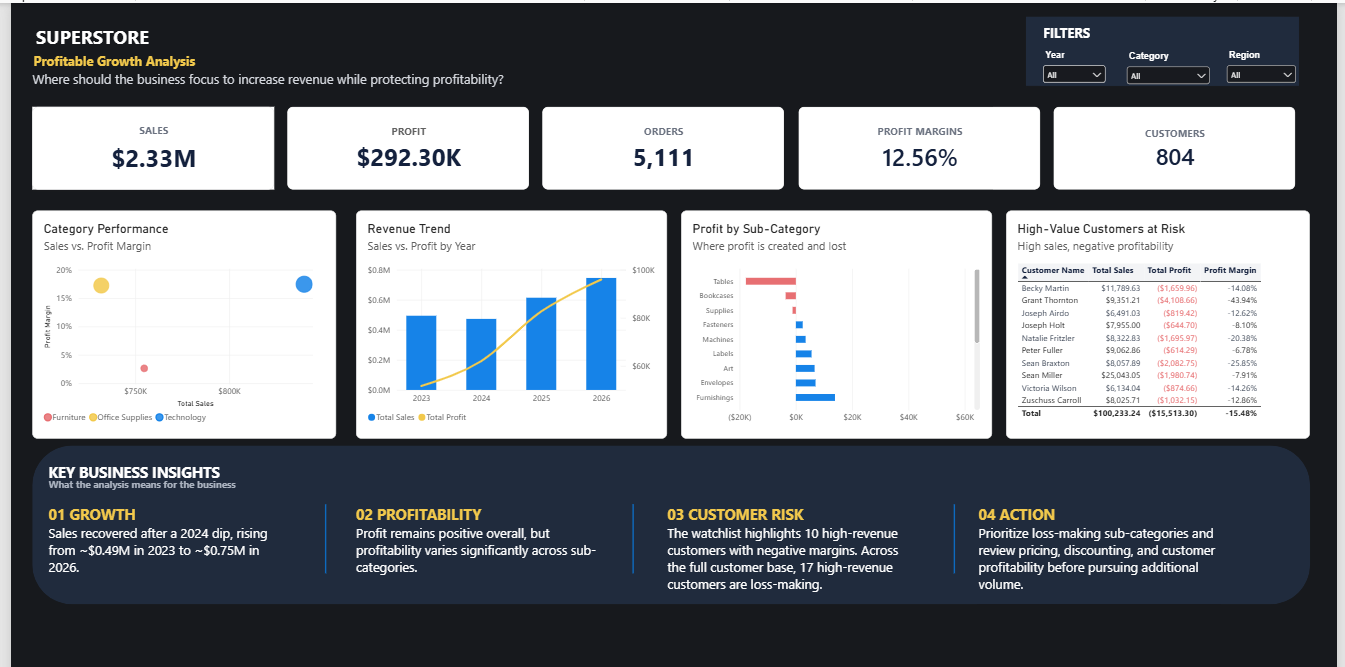

What the dashboard file says about the page in this screenshot:
{"tool":"powerbi","page":{"name":"Page 1","canvas":[1920,1080],"ordinal":0},"visuals":[{"type":"cardVisual","title":"SALES","fields":{"Data":["Orders.Total Sales"]},"box":[30,150,350,120],"z":0},{"type":"cardVisual","fields":{"Data":["Orders.Total Profit"]},"box":[400,150,350,120],"z":1000},{"type":"cardVisual","fields":{"Data":["Orders.Profit Margin"]},"box":[1140,150,350,120],"z":2000},{"type":"cardVisual","fields":{"Data":["Orders.Total Orders"]},"box":[770,150,350,120],"z":3000},{"type":"cardVisual","fields":{"Data":["Orders.Total Customers"]},"box":[1510,150,350,120],"z":4000},{"type":"lineClusteredColumnComboChart","title":"Revenue Trend","fields":{"Category":["Orders.Order Date.Variation.Date Hierarchy.Year"],"Y":["Orders.Total Sales"],"Y2":["Orders.Total Profit"]},"box":[500,300,450,330],"z":5000},{"type":"clusteredBarChart","title":"Profit by Sub-Category","fields":{"Category":["Orders.Sub-Category"],"Y":["Orders.Total Profit"]},"box":[970,300,450,330],"z":6000},{"type":"tableEx","title":"High-Value Customers at Risk","fields":{"Values":["Orders.Customer Name","Orders.Total Sales","Orders.Total Profit","Orders.Profit Margin"]},"box":[1440,300,440,330],"z":7000},{"type":"textbox","box":[30,98,700,25],"z":8000},{"type":"shape","box":[1470,20,395,100],"z":9000},{"type":"slicer","fields":{"Values":["Orders.Region"]},"box":[1755,66.2,110,56.7],"z":10000},{"type":"slicer","fields":{"Values":["Orders.Order Date.Variation.Date Hierarchy.Year"]},"box":[1490,67.5,100,52.5],"z":11000},{"type":"slicer","fields":{"Values":["Orders.Category"]},"box":[1610,68,130,53.3],"z":12000},{"type":"textbox","box":[1490,30,401.1,27.8],"z":13000},{"type":"scatterChart","title":"Category Performance","fields":{"Series":["Orders.Category"],"Size":["Orders.Total Profit"],"X":["Orders.Total Sales"],"Y":["Orders.Profit Margin"]},"box":[30,300,440,330],"z":14000},{"type":"shape","box":[30,640,1850,230],"z":15000},{"type":"textbox","box":[55,665,350,42.5],"z":16000},{"type":"textbox","box":[55,687,350,150],"z":17000},{"type":"textbox","box":[55,725,350,150],"z":18000},{"type":"textbox","box":[500,725,350,150],"z":19000},{"type":"textbox","box":[950,725,350,150],"z":20000},{"type":"textbox","box":[1400,725,350,150],"z":21000},{"type":"shape","box":[280,726,350,100],"z":22000},{"type":"shape","box":[726,726,350,100],"z":23000},{"type":"shape","box":[1190,726,350,100],"z":24000},{"type":"textbox","box":[36,30,350,36],"z":25000},{"type":"textbox","box":[33,70,350,36],"z":26000}]}

Visuals, with their boxes on the page's 1920x1080 design canvas (x1, y1, x2, y2). These are canvas units, not pixel positions in the 1345x667 screenshot, which may show the page scaled, cropped or inside an application window:
"SALES" cardVisual: bbox(30, 150, 380, 270)
cardVisual - Orders.Total Profit: bbox(400, 150, 750, 270)
cardVisual - Orders.Profit Margin: bbox(1140, 150, 1490, 270)
cardVisual - Orders.Total Orders: bbox(770, 150, 1120, 270)
cardVisual - Orders.Total Customers: bbox(1510, 150, 1860, 270)
"Revenue Trend" lineClusteredColumnComboChart: bbox(500, 300, 950, 630)
"Profit by Sub-Category" clusteredBarChart: bbox(970, 300, 1420, 630)
"High-Value Customers at Risk" tableEx: bbox(1440, 300, 1880, 630)
textbox: bbox(30, 98, 730, 123)
shape: bbox(1470, 20, 1865, 120)
slicer - Orders.Region: bbox(1755, 66, 1865, 123)
slicer - Orders.Order Date.Variation.Date Hierarchy.Year: bbox(1490, 68, 1590, 120)
slicer - Orders.Category: bbox(1610, 68, 1740, 121)
textbox: bbox(1490, 30, 1891, 58)
"Category Performance" scatterChart: bbox(30, 300, 470, 630)
shape: bbox(30, 640, 1880, 870)
textbox: bbox(55, 665, 405, 708)
textbox: bbox(55, 687, 405, 837)
textbox: bbox(55, 725, 405, 875)
textbox: bbox(500, 725, 850, 875)
textbox: bbox(950, 725, 1300, 875)
textbox: bbox(1400, 725, 1750, 875)
shape: bbox(280, 726, 630, 826)
shape: bbox(726, 726, 1076, 826)
shape: bbox(1190, 726, 1540, 826)
textbox: bbox(36, 30, 386, 66)
textbox: bbox(33, 70, 383, 106)
